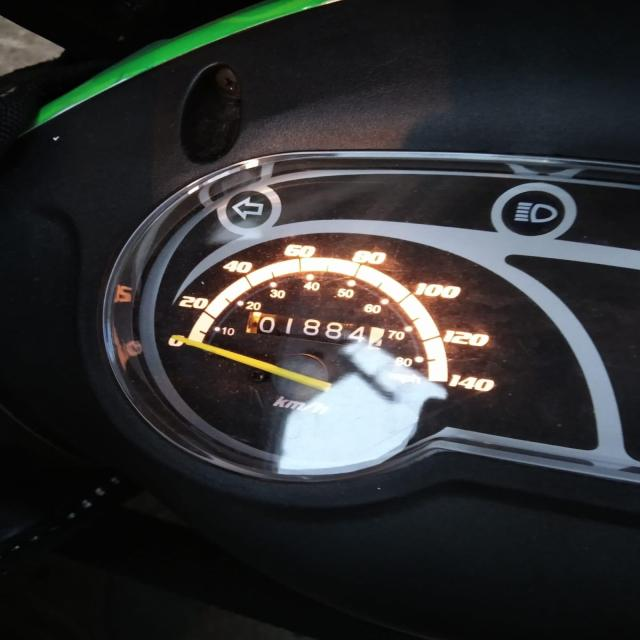odometer: (244, 310, 386, 352)
